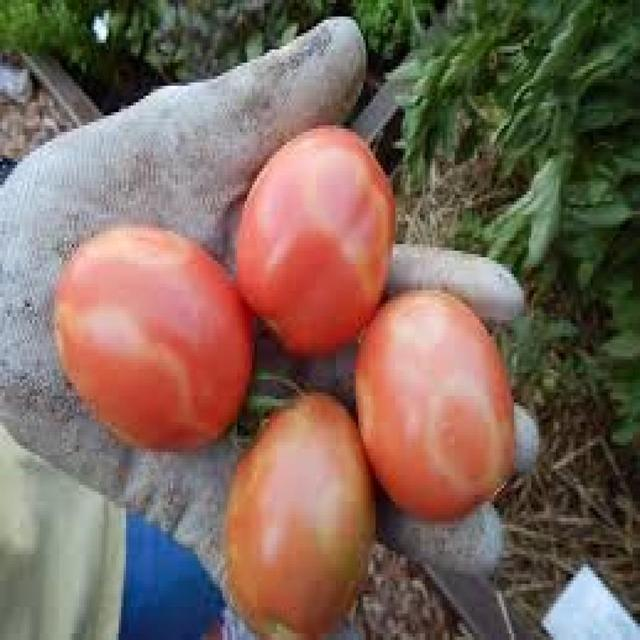Spotted wilt Virus Fruit: (35, 158, 267, 411)
